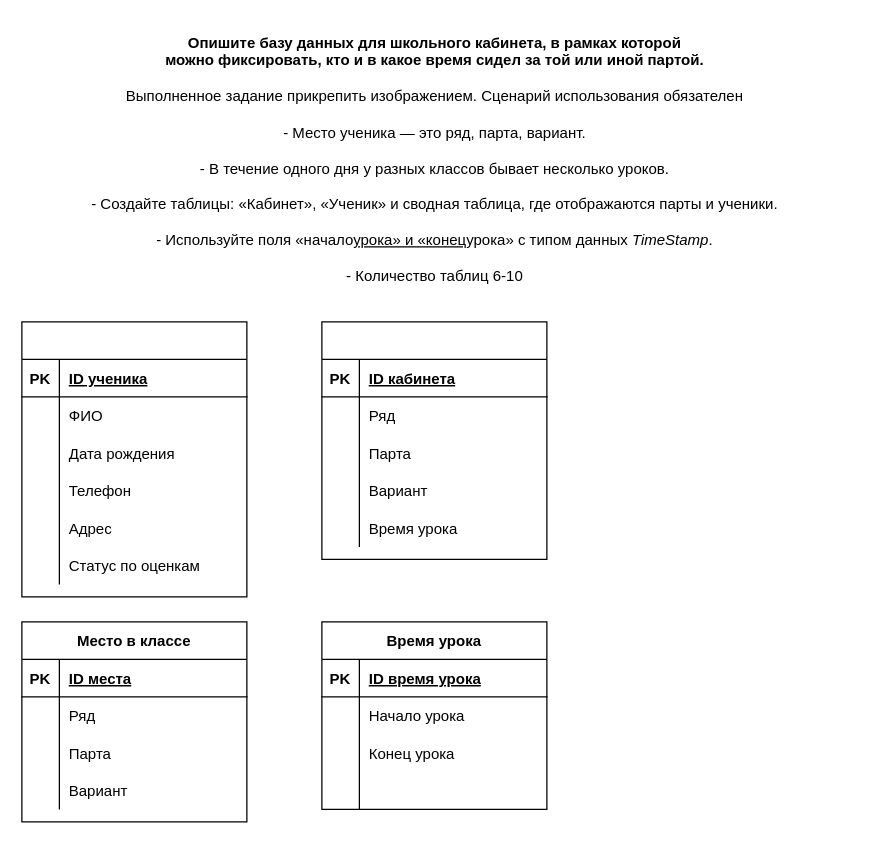
This 869x844 diagram has some shape labels left out. The box of each missing label's shape, as (x1, y1, x2, y2) in pixels:
Учебный класс: (321, 321, 547, 559)
Ученики: (21, 321, 247, 597)
